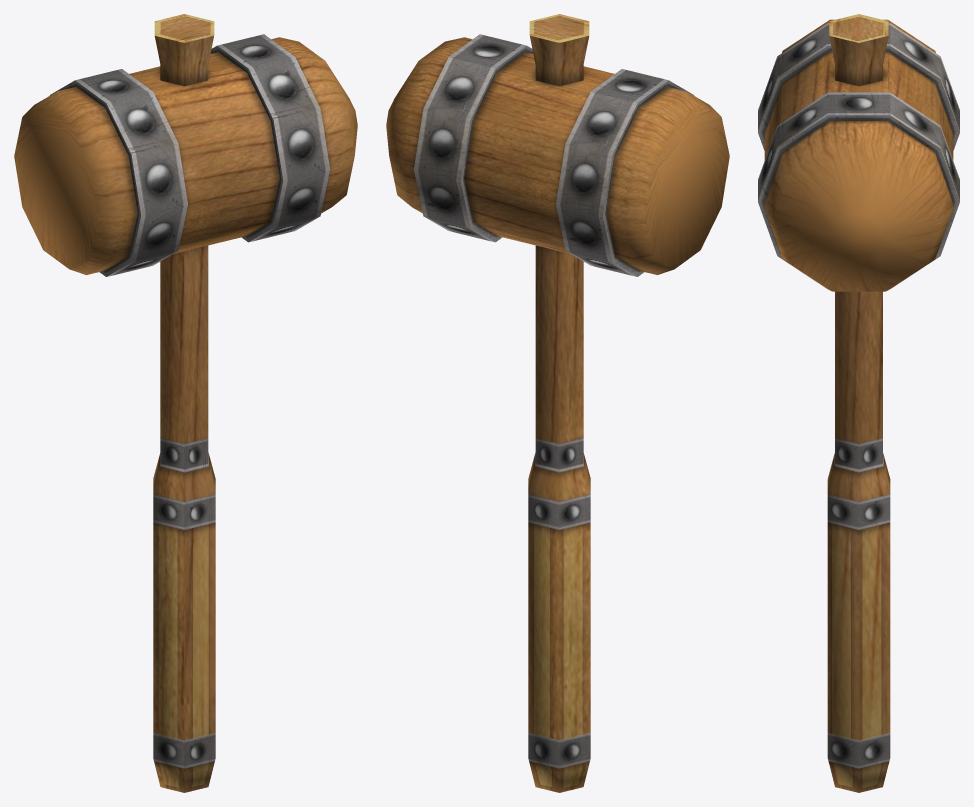
The model's file is hammer02_regular.FBX.
The picture shows the model from 3 angles, left to right: view 1: azimuth 30°, elevation 25°; view 2: azimuth 150°, elevation 25°; view 3: azimuth 270°, elevation 25°; orthographic projection.
Visible parts, largest first — view 1: hammer02; view 2: hammer02; view 3: hammer02.
Part boxes in pixels (x1=…): hammer02: x1=14, y1=14, x2=357, y2=792; hammer02: x1=386, y1=14, x2=729, y2=792; hammer02: x1=758, y1=14, x2=959, y2=792.
Size of the model in its own units: 0.5381 by 1.31 by 0.3189.
